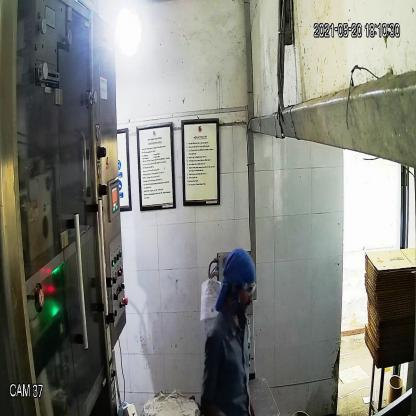goggles: (229, 280, 259, 300)
